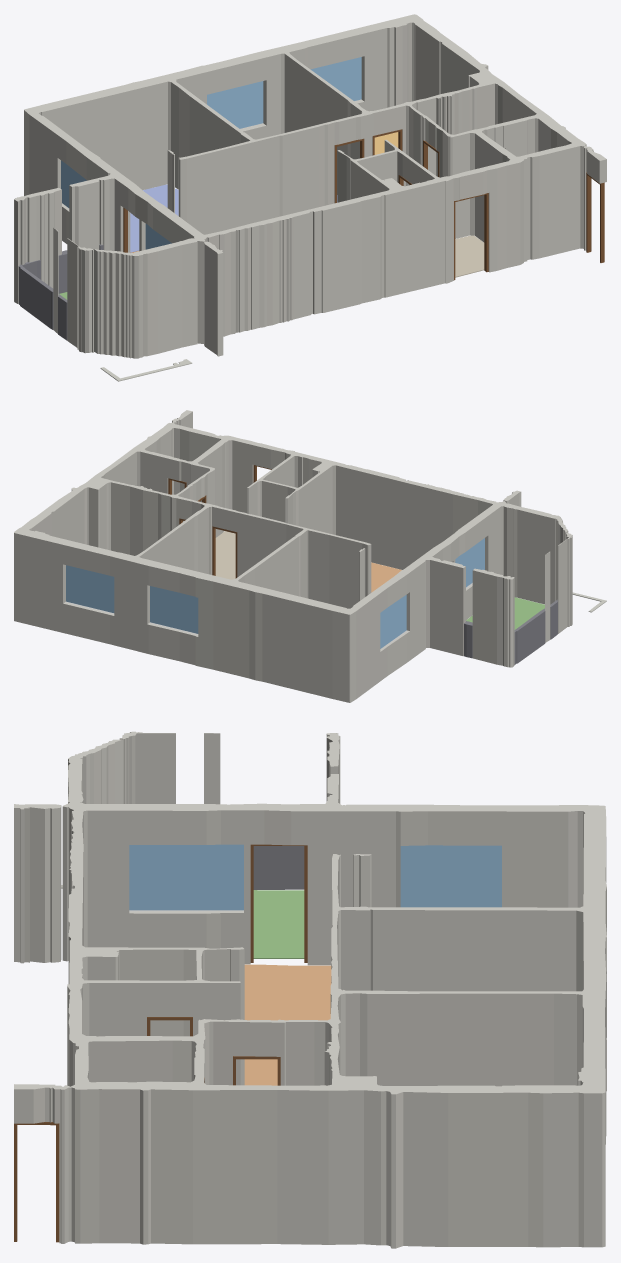
The picture shows the model from 3 angles, top to bottom: view 1: azimuth 30°, elevation 25°; view 2: azimuth 150°, elevation 25°; view 3: azimuth 270°, elevation 25°; orthographic projection. The views are drawn at different scales.
Visible parts, largest first — view 1: walls, railings, window_8, window_9, floor_9_Entry, door_7, floor_6_Bed_Room, door_6, window_10; view 2: walls, window_8, window_9, railings, window_10, floor_9_Entry, window_11, floor_0_Outdoor, floor_3_Living_Room; view 3: walls, window_11, window_10, floor_3_Living_Room, floor_0_Outdoor, railings, door_7, door_2.
Boxes of the visible parts, x1,y1,x2,y2 form: walls: (14,14,606,358); railings: (18,244,103,340); window_8: (207,81,263,128); window_9: (310,57,361,100); floor_9_Entry: (455,235,484,277); door_7: (586,172,604,262); floor_6_Bed_Room: (130,184,178,252); door_6: (454,193,488,280); window_10: (61,160,86,207); walls: (14,410,572,702); window_8: (150,586,198,633); window_9: (66,565,114,612); railings: (464,599,557,664); window_10: (380,595,406,648); floor_9_Entry: (215,531,235,579); window_11: (455,538,484,587); floor_0_Outdoor: (466,597,544,629); floor_3_Living_Room: (371,562,401,592); walls: (14,731,606,1248); window_11: (129,844,243,910); window_10: (400,845,501,907); floor_3_Living_Room: (244,964,331,1085); floor_0_Outdoor: (253,890,304,958); railings: (253,846,304,889); door_7: (14,1122,59,1242); door_2: (250,844,307,962).
Size of the model in its own units: 13.66 by 2.72 by 9.41.
